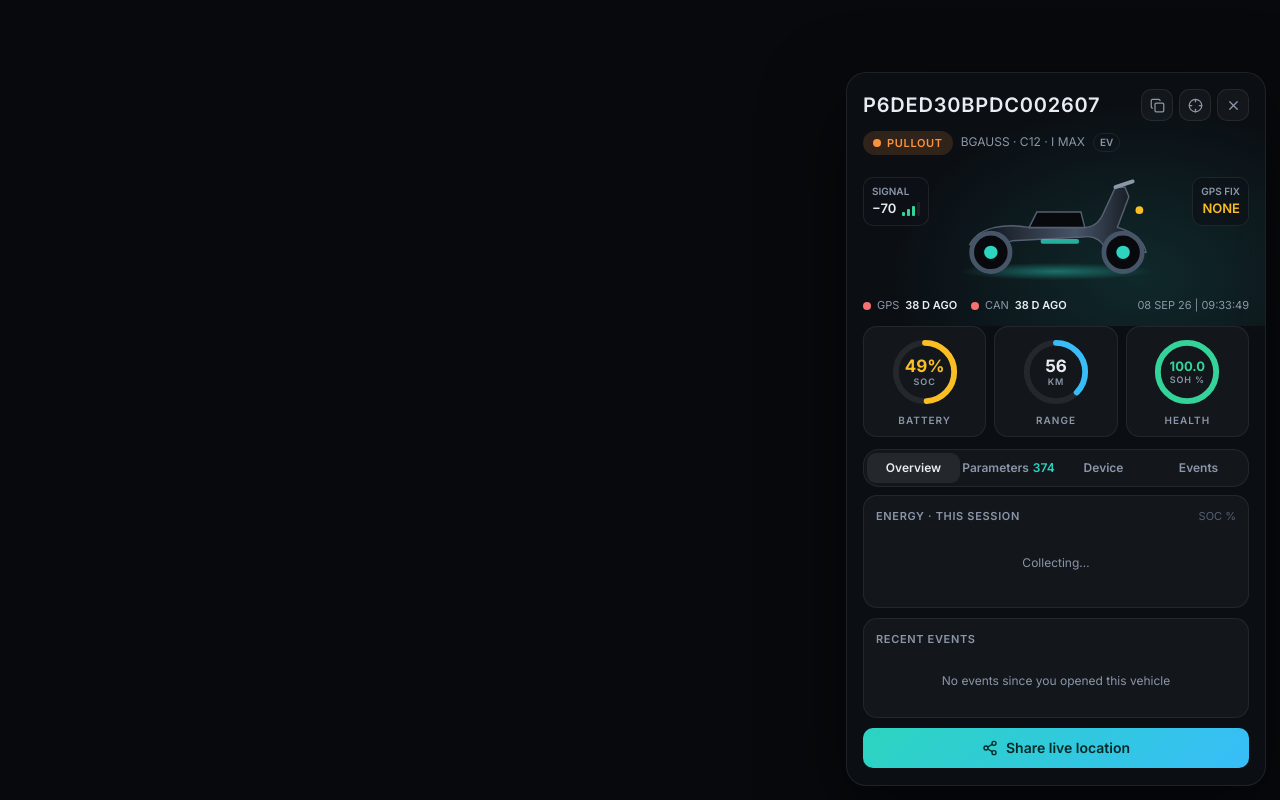
it: F07-T5: vehicle details panel › F10-R1: the Share CTA shows only with share.create and opens the Share dialog
(page scrolled)
Click the button "Share live location" at (1056, 748), box 863,728 -> 1249,768
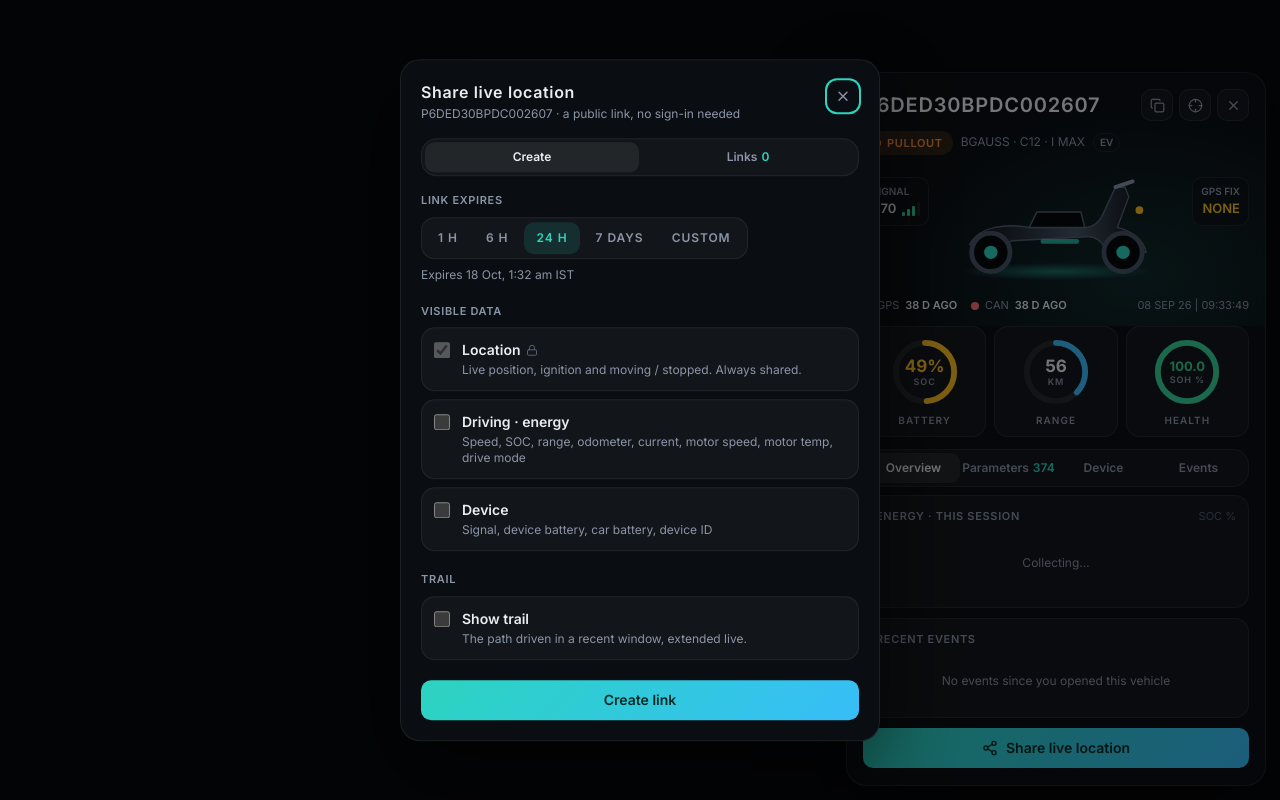
Result: the dialog "Share live location" shows "P6DED30BPDC002607" at 421,106 -> 553,121
Result: the button "Create link" is shown at 421,680 -> 859,720
